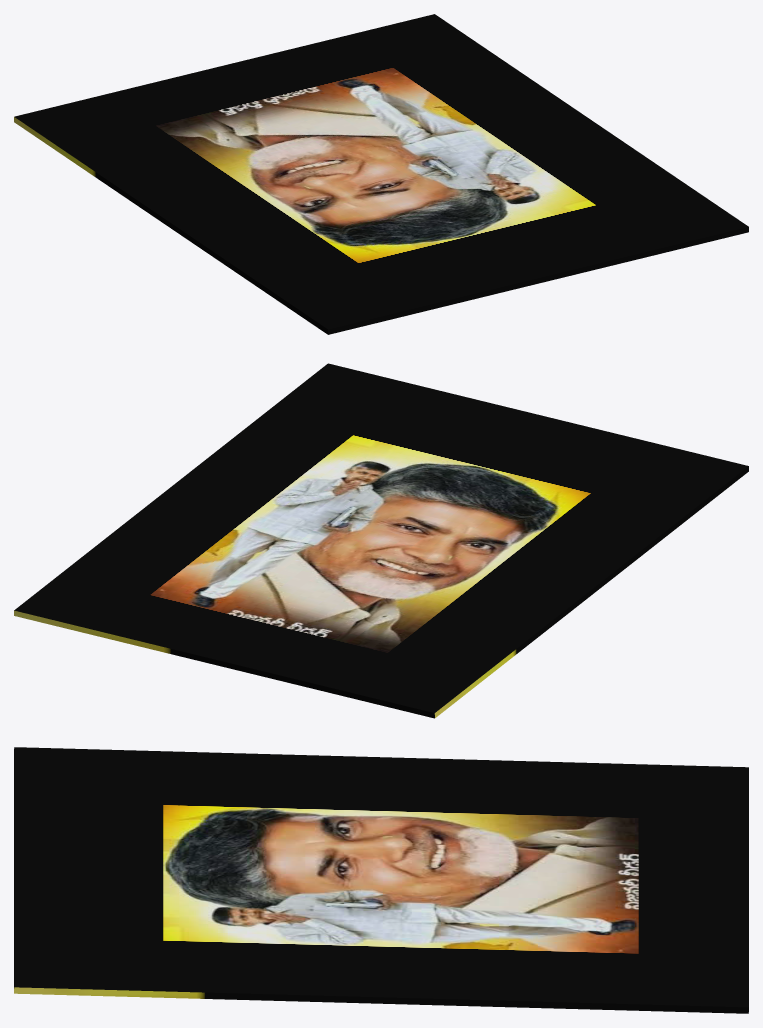
3 renders of one model, top to bottom at view 1: azimuth 30°, elevation 25°; view 2: azimuth 150°, elevation 25°; view 3: azimuth 270°, elevation 25°, orthographic. The views are drawn at different scales.
Visible parts, largest first — view 1: Cube.007; view 2: Cube.007; view 3: Cube.007.
Part boxes in pixels (x1=…): Cube.007: x1=14, y1=14, x2=748, y2=334; Cube.007: x1=14, y1=363, x2=748, y2=718; Cube.007: x1=14, y1=747, x2=748, y2=1013.
Bounding box in the file's own units: 4.63 × 0.2382 × 5.99.
1 material, 1 textured.
